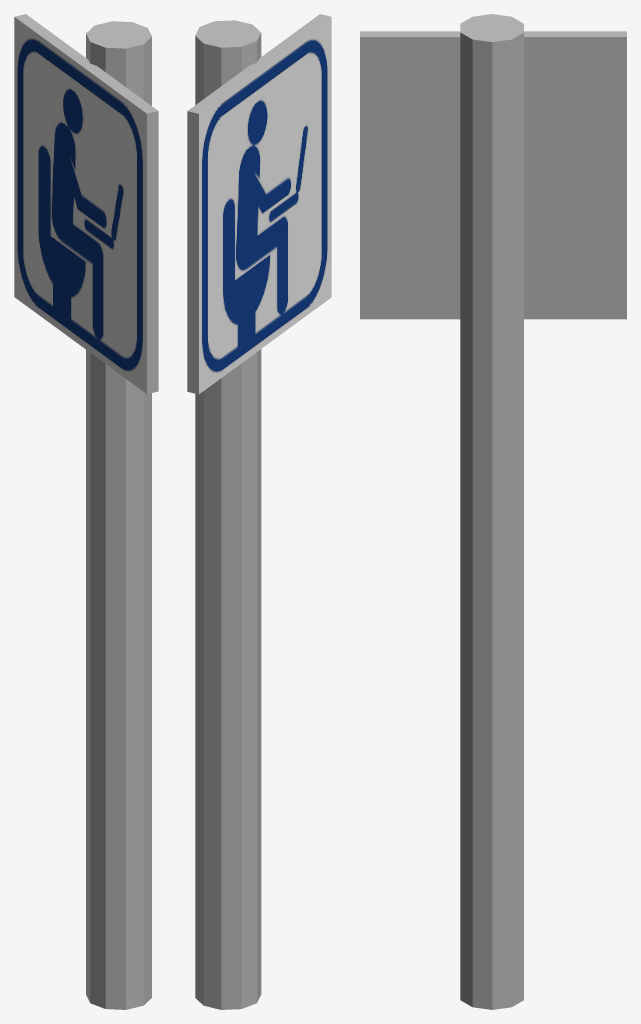
The model's file is handicapsign.fbx.
The picture shows the model from 3 angles, left to right: view 1: azimuth 30°, elevation 25°; view 2: azimuth 150°, elevation 25°; view 3: azimuth 270°, elevation 25°; orthographic projection.
Parts seen in each view (by area): view 1: pCylinder1, pCube1; view 2: pCylinder1, pCube1; view 3: pCylinder1, pCube1.
Part boxes in pixels (bbox=[...]): pCylinder1: bbox=[86, 21, 151, 1009]; pCube1: bbox=[14, 14, 158, 393]; pCylinder1: bbox=[195, 20, 261, 1009]; pCube1: bbox=[187, 14, 331, 394]; pCylinder1: bbox=[460, 14, 523, 1009]; pCube1: bbox=[360, 31, 626, 319].
Size of the model in its own units: 1.73 by 24 by 6.
2 materials, 2 textured.
